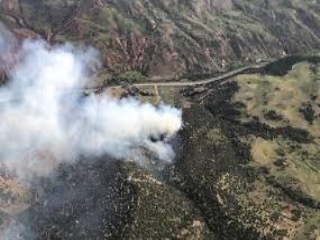smoke: (20, 50, 193, 181)
